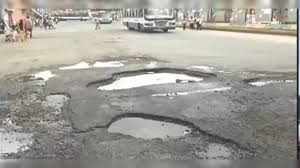Pothole: (93, 111, 215, 150), (87, 66, 222, 95)
